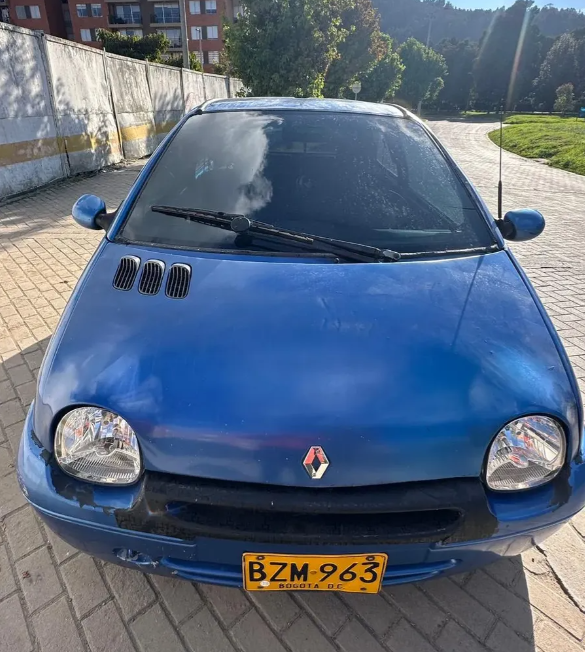placa: (239, 553, 388, 600)
